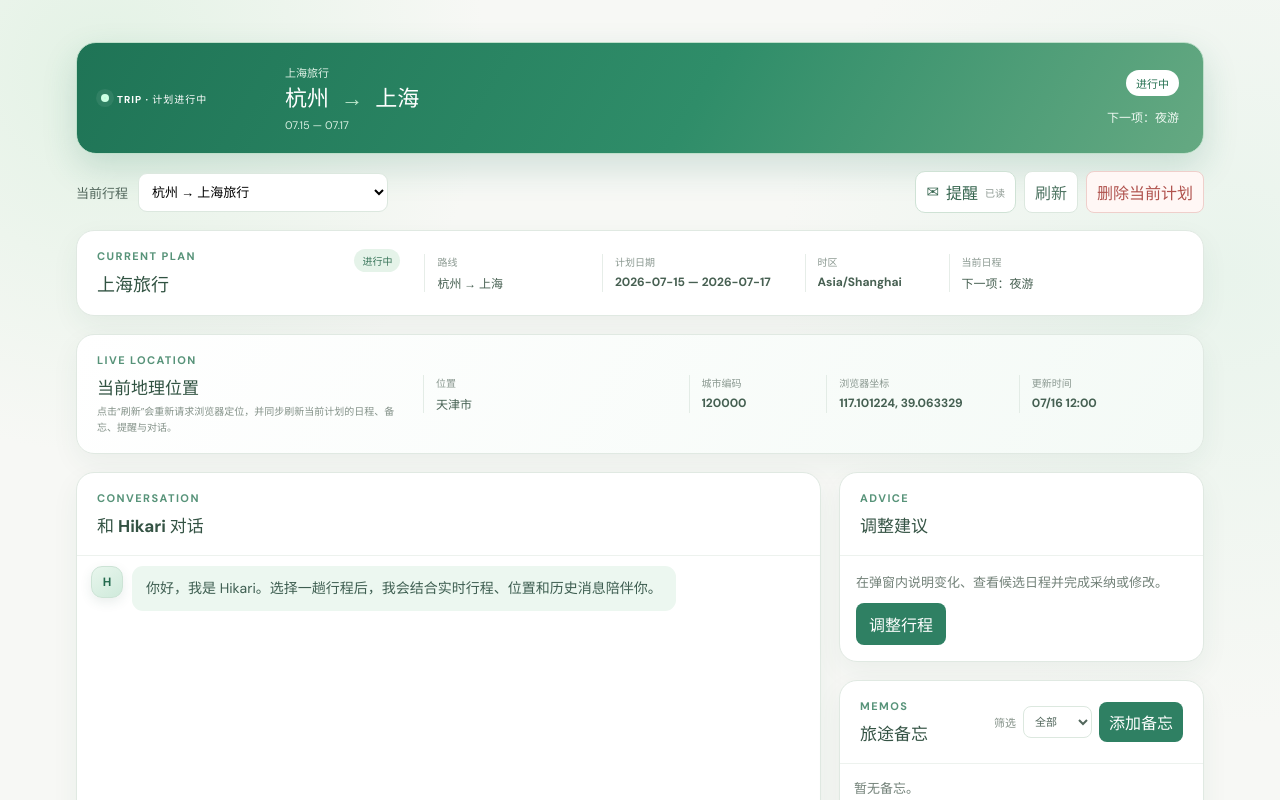
Test case: Companion adjustment dialog › lets users select pending conflict items and excludes completed items
This screenshot has width=1280, height=800.
Click the button "调整行程" at (901, 624), box [856, 603, 946, 645]
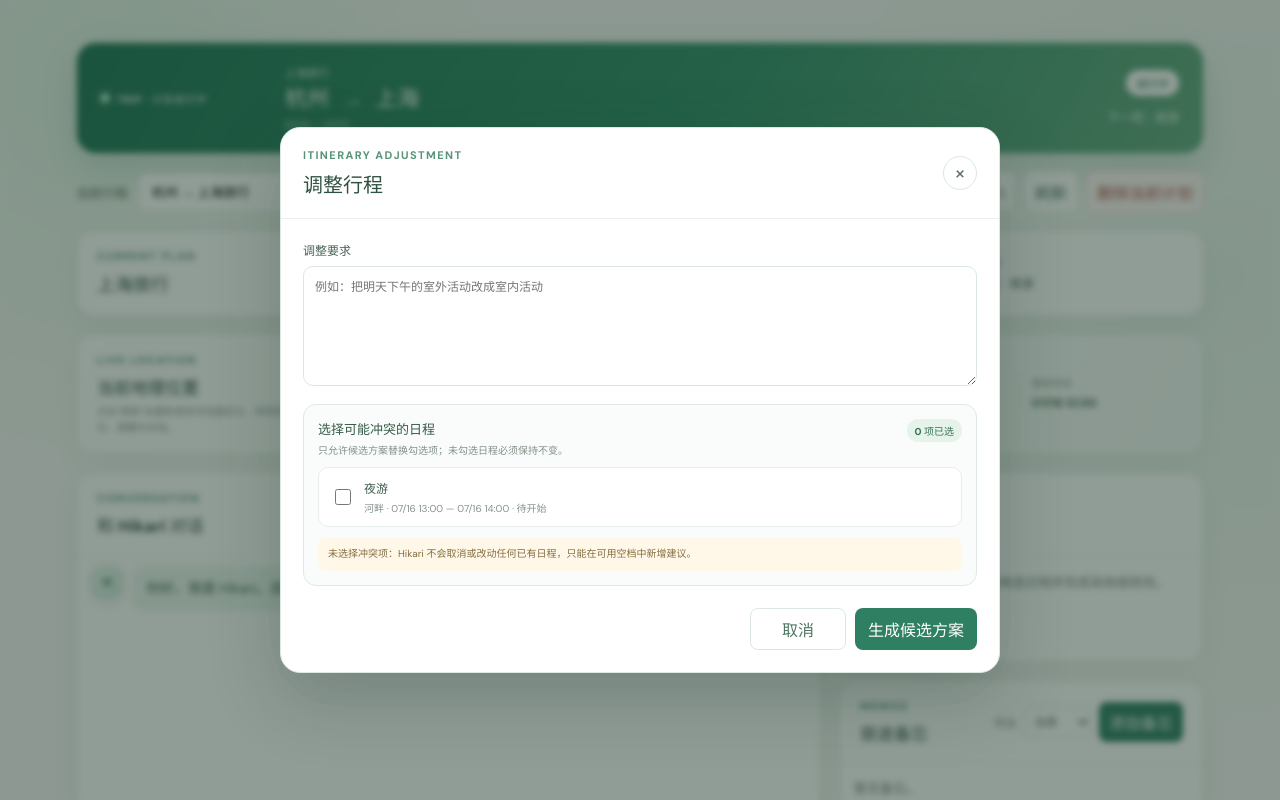
Expected: the number of labels with class "conflict-choice" is 1, [335, 481, 547, 515]
Expected: the label with class "conflict-choice" shows "夜游", [364, 481, 388, 497]
